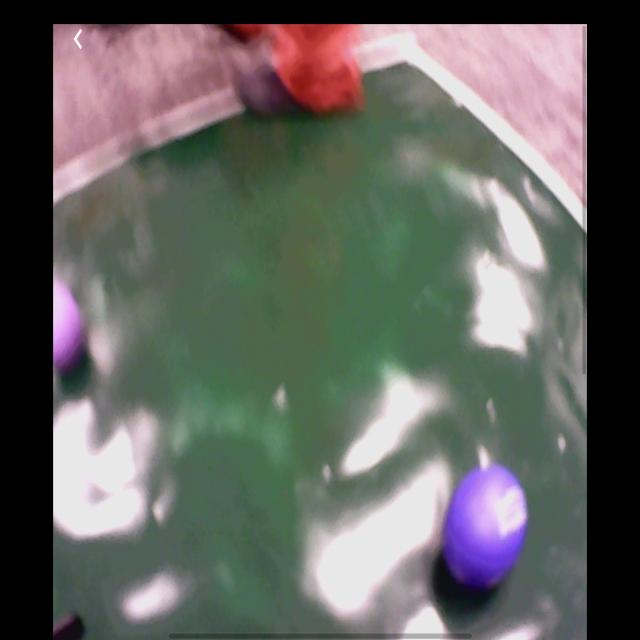ball: (442, 455, 529, 591), (55, 270, 85, 375)
